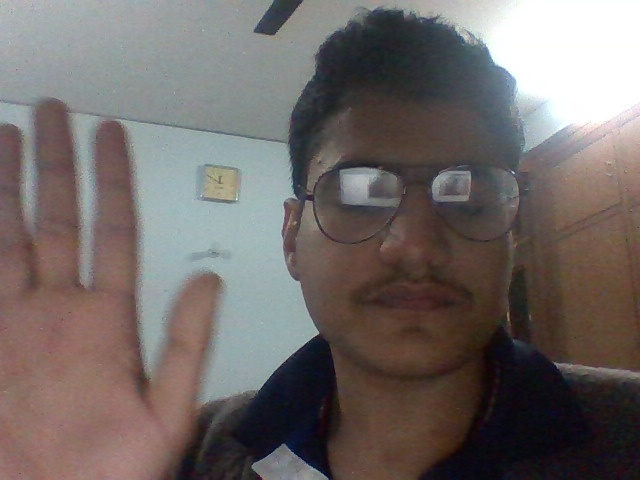Hello: (4, 77, 226, 480)
